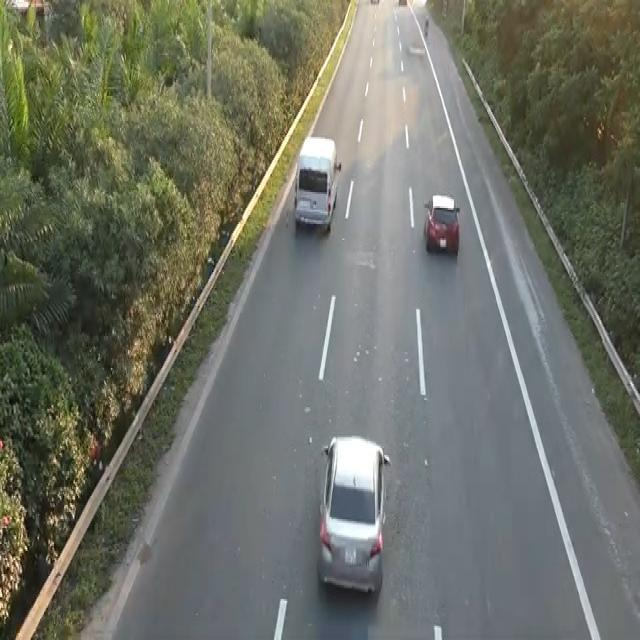bus: (315, 429, 392, 599), (422, 190, 461, 256)
jeep: (292, 131, 342, 233)
